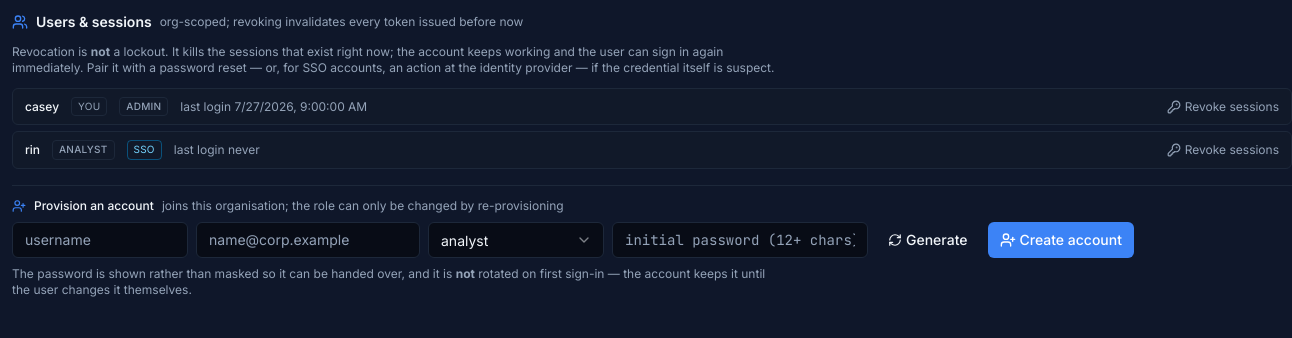
Test: SessionRevocationPanel › provisioning › requires a username and an email
Expected: the form with test id "provision-user-form" is shown, 12,185 -> 1291,298
Type "a-long-enough-pw" into the field with test id "provision-password" at [740, 240], box 612,222 -> 868,258
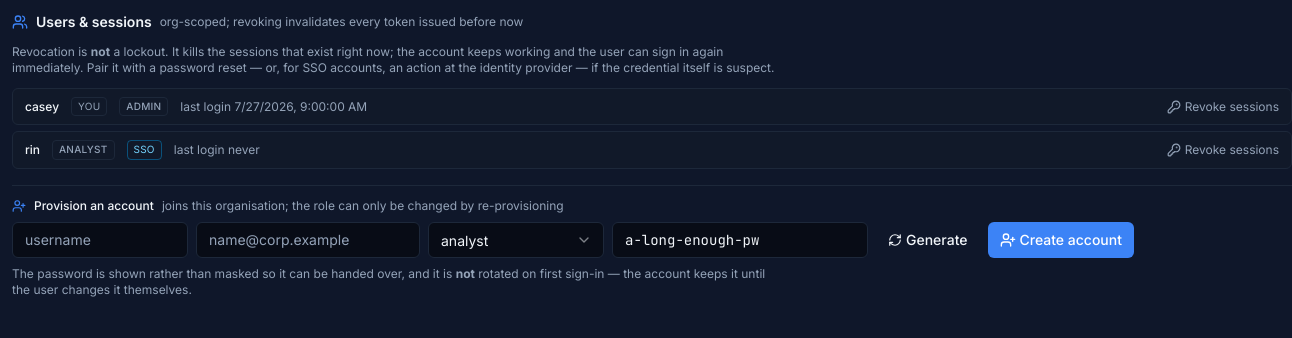
Click the button with test id "provision-submit" at [1061, 240], box 988,222 -> 1134,258
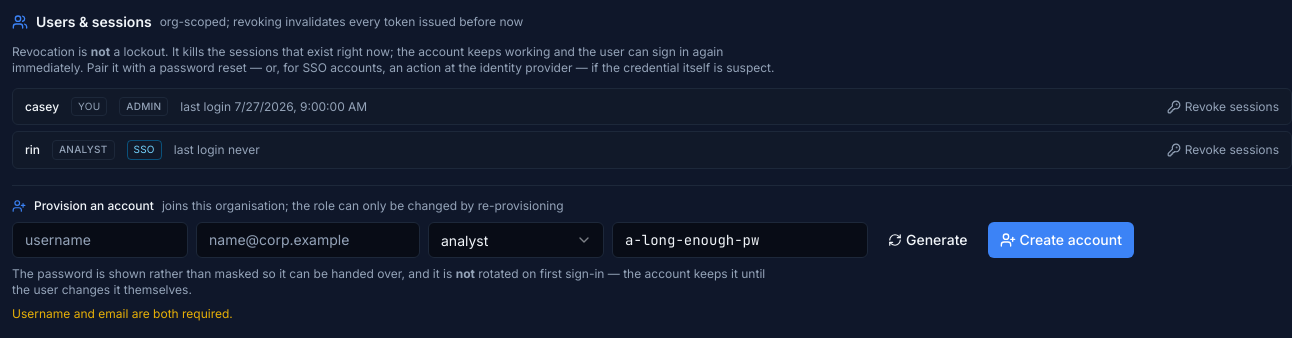
Expected: the message "Username and email are both required." is shown, 12,306 -> 233,321
